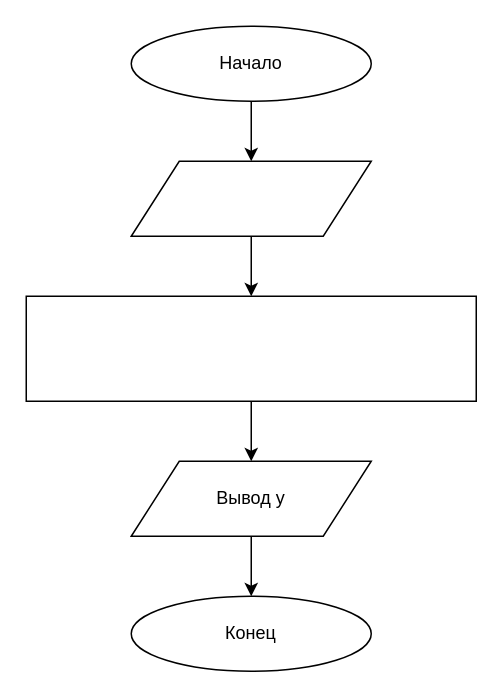
Some shapes in this 503 by 698 pixel diagram are drawn without their labels. Each missing label, with the box of its shape:
y = (arccos^2 a - b^2) / (b(c-1)): (25, 295, 476, 401)
Ввод a, b, c: (130, 160, 371, 236)
